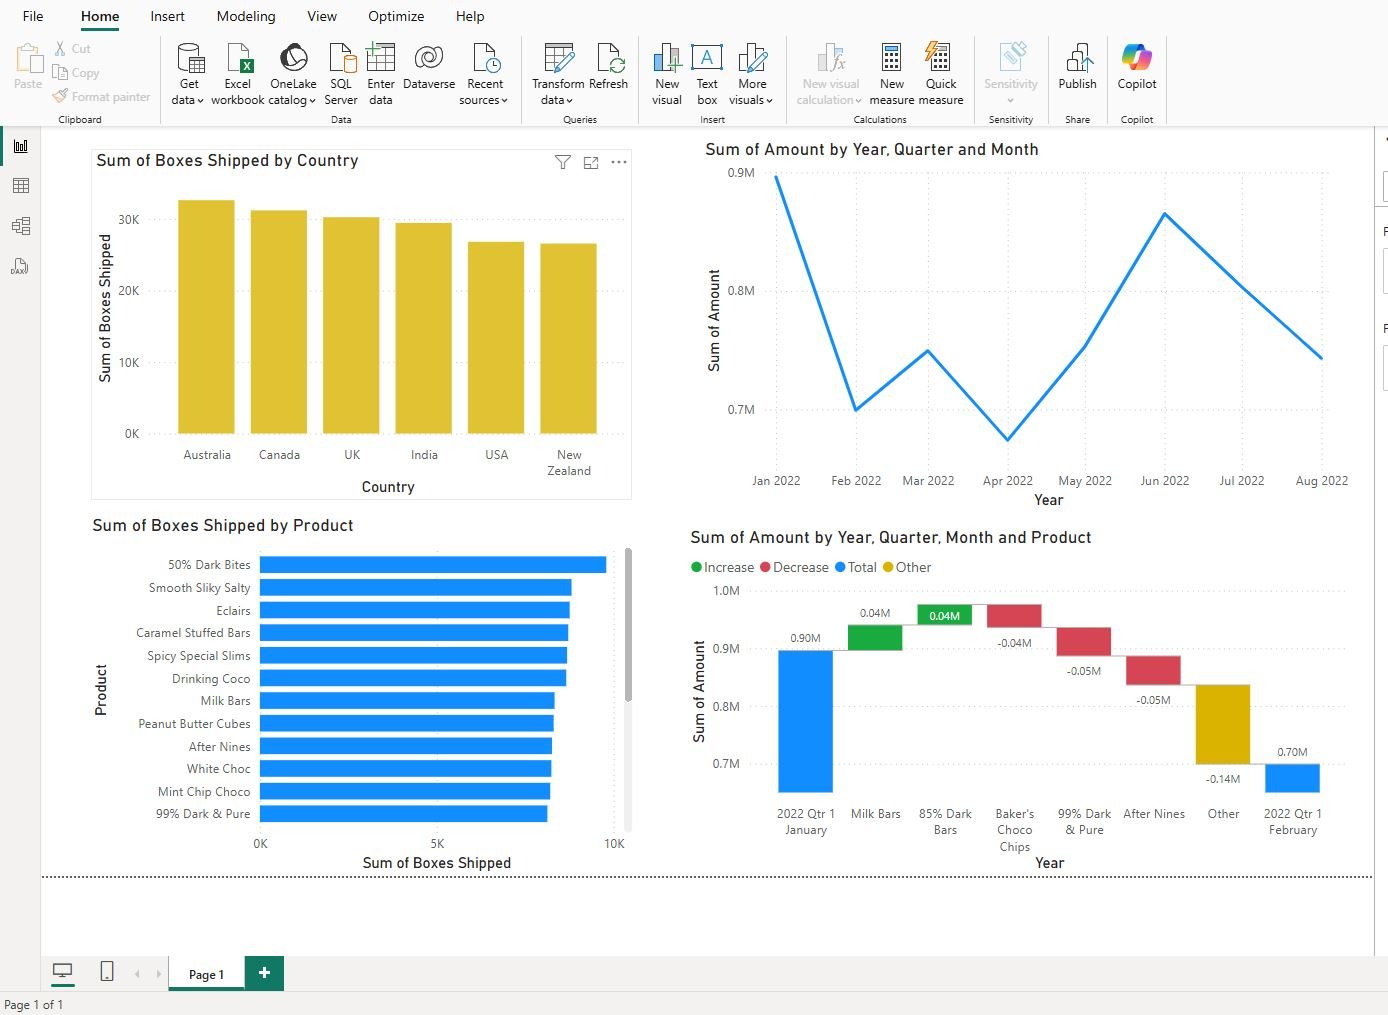

The page's visual inventory and layout, read from the dashboard file:
{"tool":"powerbi","page":{"name":"Page 1","canvas":[1280,720],"ordinal":0},"visuals":[{"type":"clusteredColumnChart","fields":{"Category":["data.Country"],"Y":["Sum(data.Boxes Shipped)"]},"box":[47.6,22.4,520,337.3],"z":0},{"type":"clusteredBarChart","fields":{"Y":["Sum(data.Boxes Shipped)"],"Category":["data.Product"]},"box":[43.7,372.2,528.7,347.9],"z":1000},{"type":"lineChart","fields":{"Y":["Sum(data.Amount)"],"Category":["data.Date.Variation.Date Hierarchy.Year","data.Date.Variation.Date Hierarchy.Quarter","data.Date.Variation.Date Hierarchy.Month","data.Date.Variation.Date Hierarchy.Day"]},"box":[632.7,11.7,627.9,360.6],"z":2000},{"type":"waterfallChart","fields":{"Category":["data.Date.Variation.Date Hierarchy.Year","data.Date.Variation.Date Hierarchy.Quarter","data.Date.Variation.Date Hierarchy.Month"],"Breakdown":["data.Product"],"Y":["Sum(data.Amount)"]},"box":[618.1,383.9,642.4,336.3],"z":2001}]}

Visuals, with their boxes on the page's 1280x720 design canvas (x1, y1, x2, y2). These are canvas units, not pixel positions in the 1388x1015 screenshot, which may show the page scaled, cropped or inside an application window:
clusteredColumnChart - data.Country x Sum(data.Boxes Shipped): (48,22,568,360)
clusteredBarChart - Sum(data.Boxes Shipped) x data.Product: (44,372,572,720)
lineChart - Sum(data.Amount) x data.Date.Variation.Date Hierarchy.Year: (633,12,1261,372)
waterfallChart - data.Date.Variation.Date Hierarchy.Year x data.Date.Variation.Date Hierarchy.Quarter: (618,384,1260,720)
